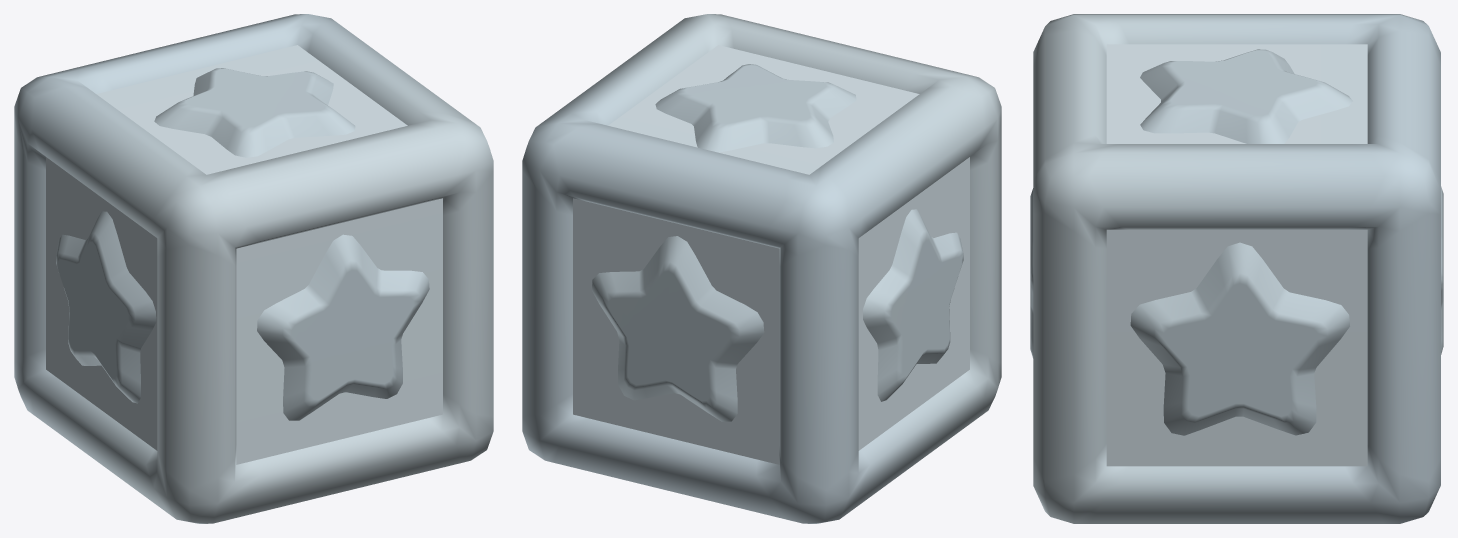
The model's file is Star_Block_White.fbx.
3 views of the same model, side by side, from view 1: azimuth 30°, elevation 25°; view 2: azimuth 150°, elevation 25°; view 3: azimuth 270°, elevation 25° (orthographic). The views are drawn at different scales.
Visible parts, largest first — view 1: Star Block_White; view 2: Star Block_White; view 3: Star Block_White.
Part boxes in pixels (x1,y1,x2,y2): Star Block_White: (14,14,493,523); Star Block_White: (522,14,1001,523); Star Block_White: (1030,14,1443,523).
Bounding box in the file's own units: 101 × 101 × 101.
